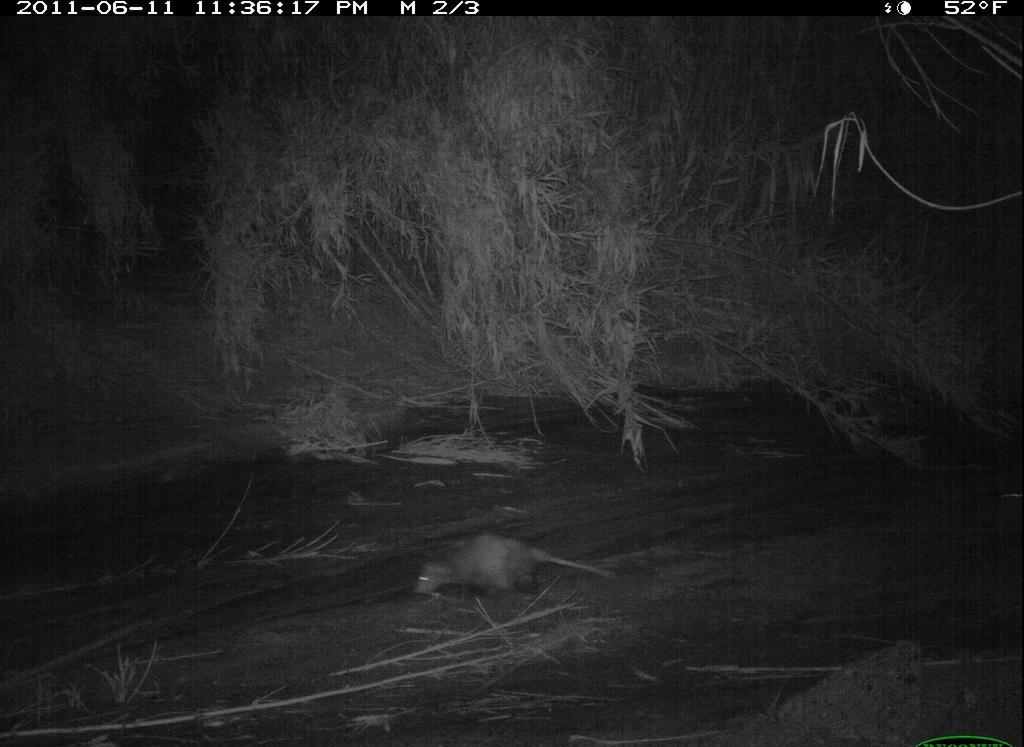opossum: (393, 521, 621, 615)
